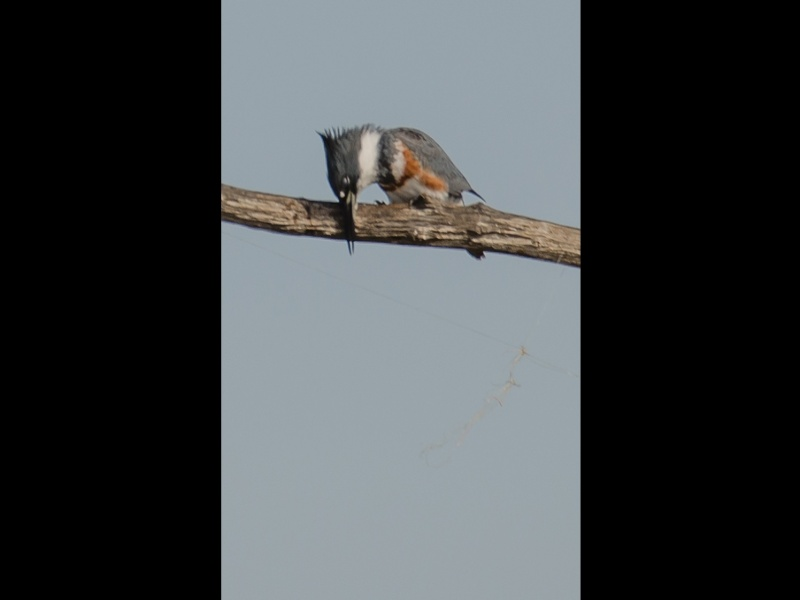kingfisher: (316, 125, 484, 258)
